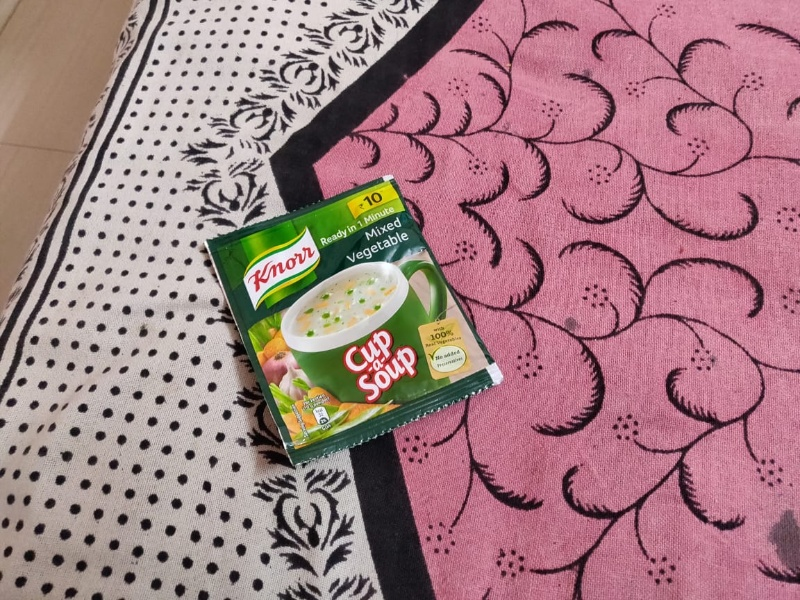Knorr_Cup_Soup: (205, 191, 491, 441)
